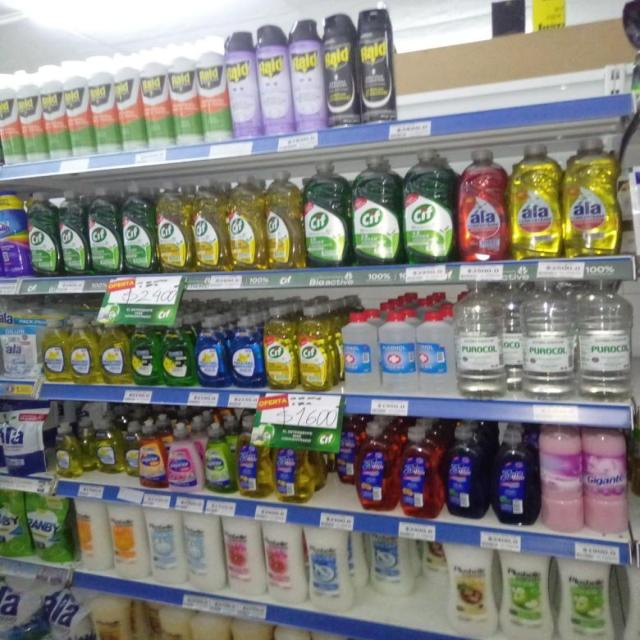ala_conc_amarillo: (564, 137, 620, 259), (510, 142, 561, 260)
ala_conc_azul: (623, 0, 640, 65)
ala_conc_rojo: (458, 148, 508, 262)
cif_conc_bot_amarilla: (266, 169, 302, 270), (228, 175, 264, 272), (157, 181, 191, 274), (192, 179, 225, 273), (298, 305, 332, 392), (264, 305, 296, 390)
cif_conc_botella_verde: (403, 149, 455, 265), (352, 154, 401, 267), (304, 160, 348, 270), (122, 183, 155, 274), (88, 186, 120, 276), (29, 190, 57, 278), (58, 190, 86, 276)
gigante: (584, 427, 629, 536), (539, 424, 583, 533), (167, 422, 202, 491), (203, 422, 235, 494), (137, 420, 166, 488), (629, 432, 640, 546)
magistral_con_amarillo: (69, 316, 98, 384), (100, 320, 129, 385), (91, 416, 122, 475), (42, 317, 68, 383), (54, 420, 81, 478)
magistral_con_azul: (229, 314, 262, 389), (196, 315, 227, 388)
magistral_con_verde: (162, 317, 194, 387), (130, 320, 160, 386)
zorro: (492, 423, 536, 526), (444, 423, 488, 519), (398, 424, 441, 518), (357, 421, 395, 512), (237, 425, 270, 499)
